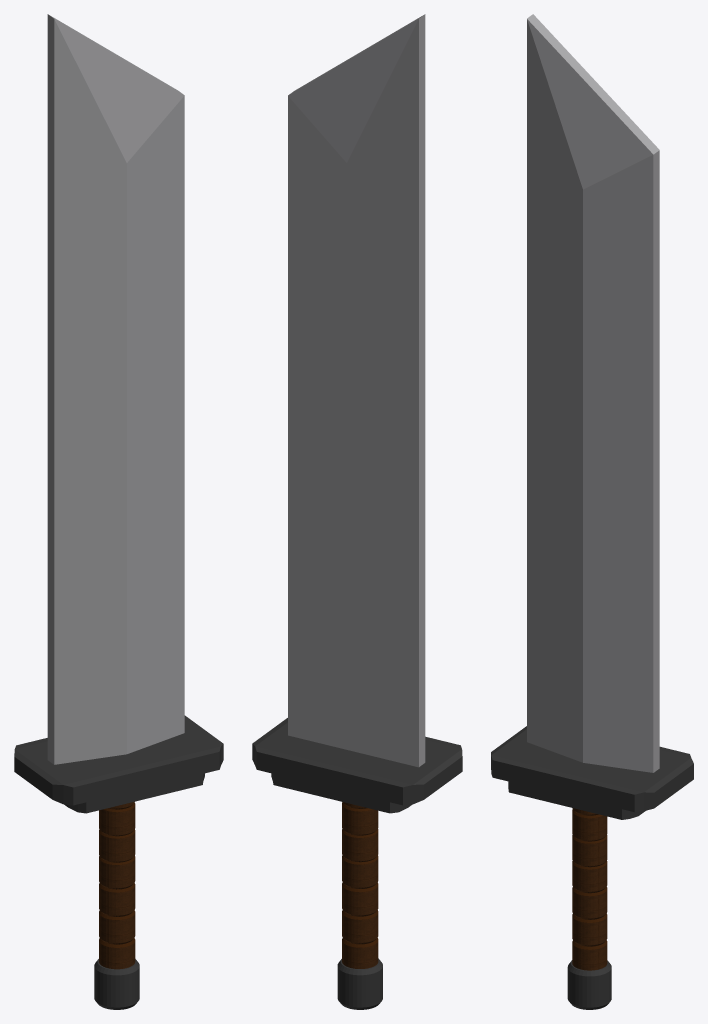
The model's file is OmenSword.fbx.
The picture shows the model from 3 angles, left to right: view 1: azimuth 30°, elevation 25°; view 2: azimuth 150°, elevation 25°; view 3: azimuth 330°, elevation 25°; orthographic projection. The views are drawn at different scales.
Visible parts, largest first — view 1: Cylinder.003; view 2: Cylinder.003; view 3: Cylinder.003.
Boxes of the visible parts, x1=… form: Cylinder.003: x1=14, y1=14, x2=223, y2=1009; Cylinder.003: x1=252, y1=14, x2=462, y2=1009; Cylinder.003: x1=491, y1=14, x2=693, y2=1009.
Bounding box in the file's own units: 430 × 2422 × 252.
Materials: 3 (1 with a texture image).
